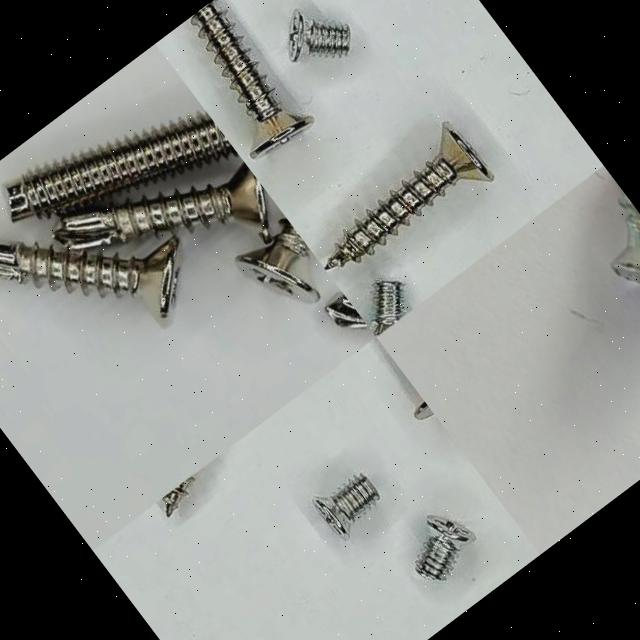Screw: (325, 123, 494, 269), (7, 113, 237, 220), (191, 1, 314, 159), (56, 163, 270, 250), (0, 237, 179, 321), (237, 217, 321, 303), (312, 473, 380, 541), (415, 516, 476, 581), (289, 10, 351, 62), (611, 190, 640, 283), (369, 283, 403, 337)
